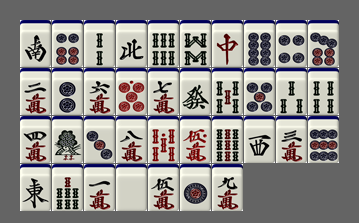0m: (180, 116, 211, 163)
0p: (116, 68, 147, 115)
0s: (148, 116, 179, 163)
1m: (84, 164, 115, 211)
1p: (180, 164, 211, 211)
1s: (52, 116, 83, 163)
1z: (20, 164, 51, 211)
2m: (20, 68, 51, 115)
2p: (52, 68, 83, 115)
2s: (84, 20, 115, 67)
2z: (20, 20, 51, 67)
3m: (276, 116, 307, 163)
3p: (84, 116, 115, 163)
3s: (276, 68, 307, 115)
3z: (244, 116, 275, 163)
4m: (20, 116, 51, 163)
4p: (276, 20, 307, 67)
4s: (308, 68, 339, 115)
4z: (116, 20, 147, 67)
5m: (148, 164, 179, 211)
5p: (244, 68, 275, 115)
5s: (212, 68, 243, 115)
5z: (116, 164, 147, 211)
6m: (84, 68, 115, 115)
6p: (52, 20, 83, 67)
6s: (148, 20, 179, 67)
6z: (180, 68, 211, 115)
7m: (148, 68, 179, 115)
7p: (308, 20, 339, 67)
7s: (52, 164, 83, 211)
7z: (212, 20, 243, 67)
8m: (116, 116, 147, 163)
8p: (244, 20, 275, 67)
8s: (180, 20, 211, 67)
9m: (212, 164, 243, 211)
9p: (308, 116, 339, 163)
9s: (212, 116, 243, 163)
